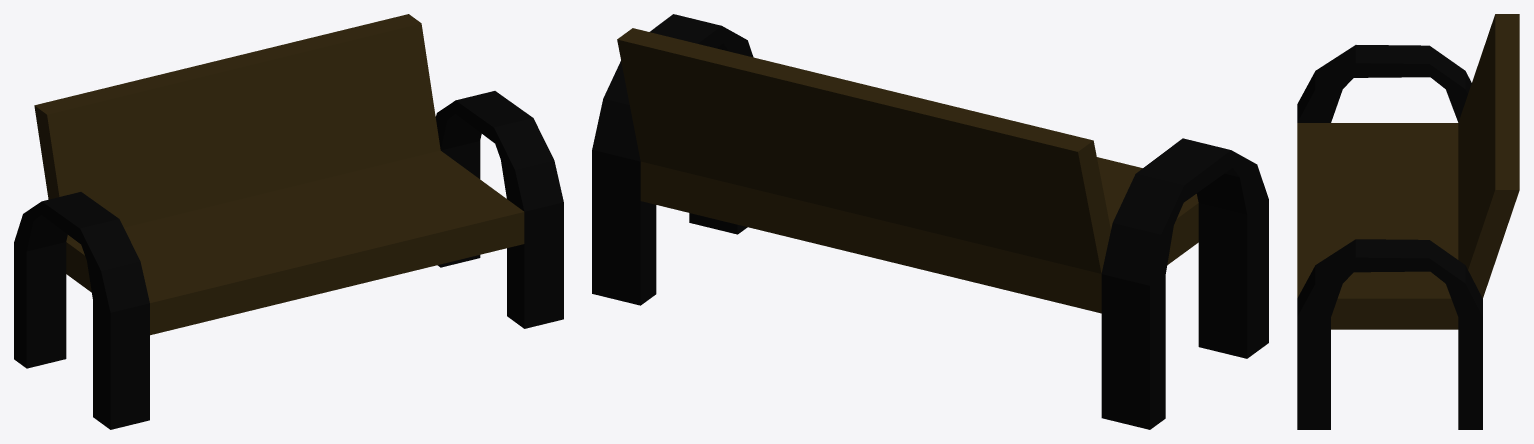
The model's file is bench.fbx.
3 views of the same model, side by side, from view 1: azimuth 30°, elevation 25°; view 2: azimuth 150°, elevation 25°; view 3: azimuth 270°, elevation 25° (orthographic). The views are drawn at different scales.
Parts seen in each view (by area): view 1: Bench; view 2: Bench; view 3: Bench.
Part boxes in pixels (x1,y1,x2,y2): Bench: (14,14,563,429); Bench: (592,14,1268,429); Bench: (1297,14,1519,429).
Bounding box in the file's own units: 383 × 186 × 169.
